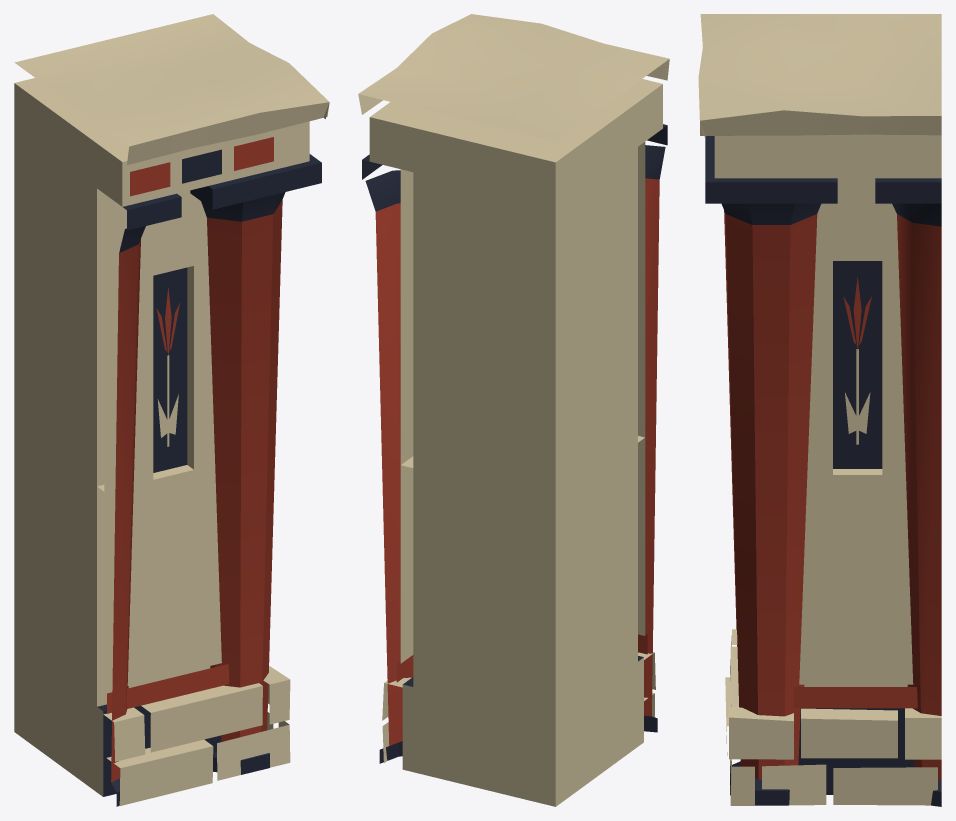
Rendered from gallery-outer.glb.
The picture shows the model from 3 angles, left to right: view 1: azimuth 30°, elevation 25°; view 2: azimuth 150°, elevation 25°; view 3: azimuth 270°, elevation 25°; orthographic projection. The views are drawn at different scales.
Parts seen in each view (by area): view 1: gallery-outer; view 2: gallery-outer; view 3: gallery-outer.
Boxes of the visible parts, <box> form: gallery-outer: <box>14,14,329,806</box>; gallery-outer: <box>358,14,669,806</box>; gallery-outer: <box>698,14,941,806</box>.
Size of the model in its own units: 1.03 by 3.31 by 1.03.
